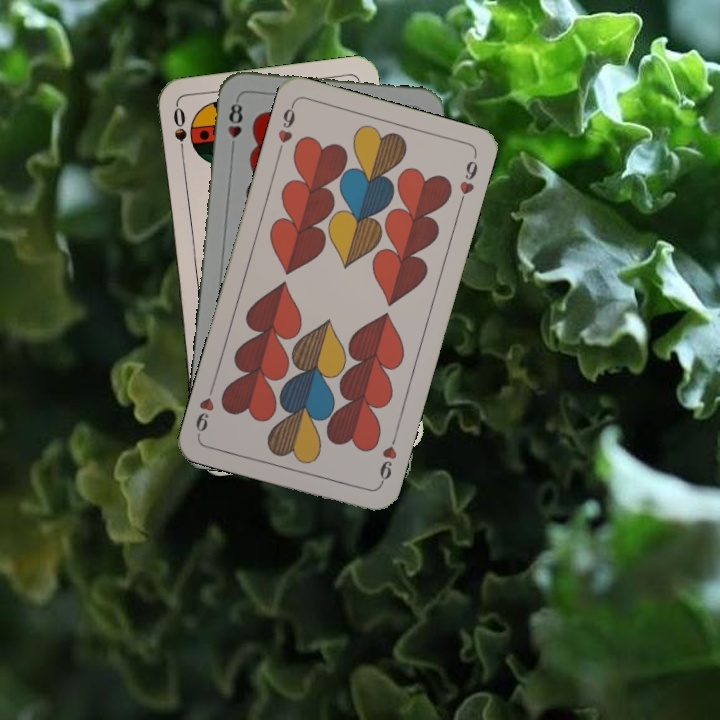H8: (224, 95, 245, 154)
H9: (375, 431, 400, 488), (274, 100, 298, 158)
SO: (169, 103, 189, 162)
